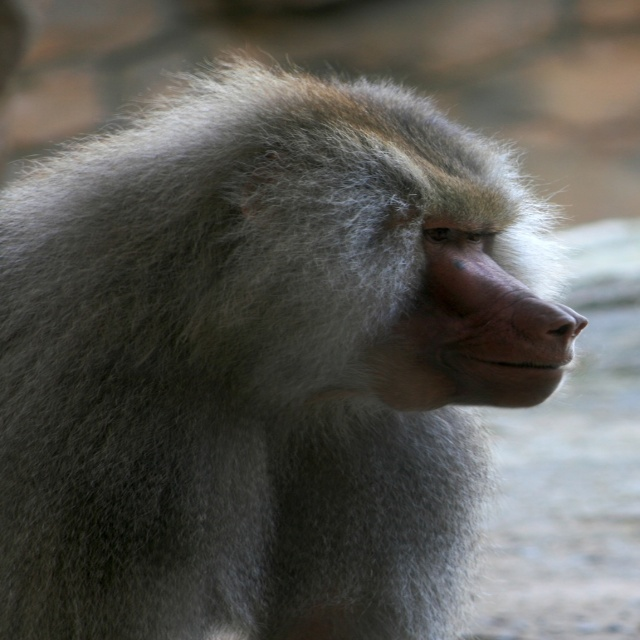Monkey: (0, 52, 590, 640)
